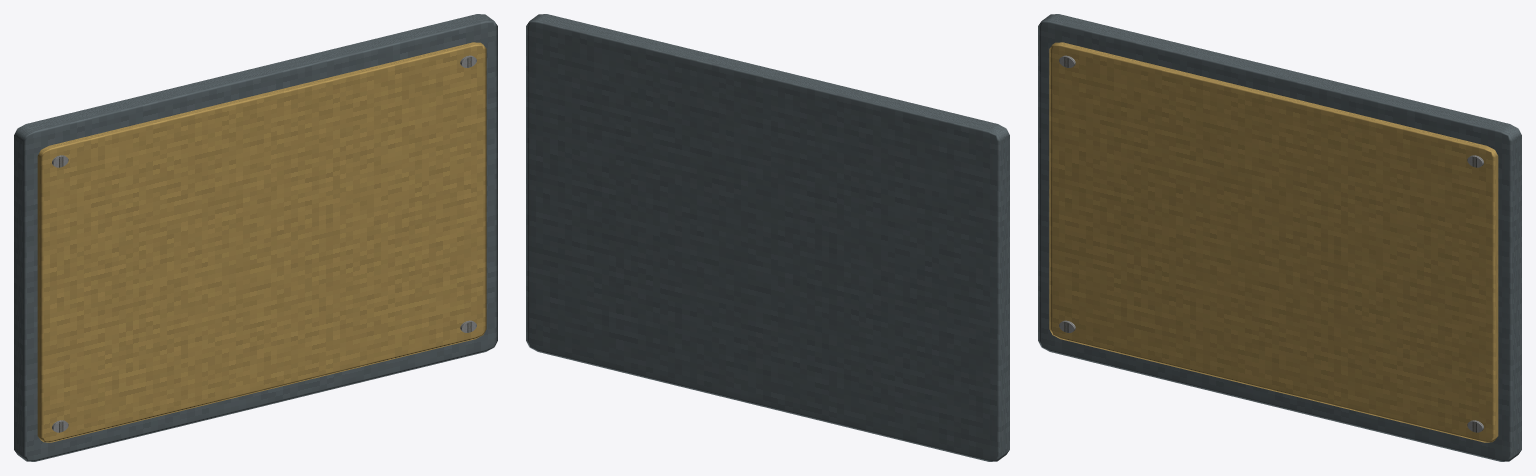
Rendered from plaque.glb.
The picture shows the model from 3 angles, left to right: view 1: azimuth 30°, elevation 25°; view 2: azimuth 150°, elevation 25°; view 3: azimuth 330°, elevation 25°; orthographic projection.
Parts seen in each view (by area): view 1: face, back; view 2: back; view 3: face, back.
Part boxes in pixels (bbox=[...]): face: bbox=[37, 42, 486, 442]; back: bbox=[14, 14, 497, 461]; back: bbox=[526, 14, 1009, 461]; face: bbox=[1049, 42, 1498, 442]; back: bbox=[1038, 14, 1521, 461].
Bounding box in the file's own units: 0.39 × 0.26 × 0.02.
3 materials, 3 textured.
